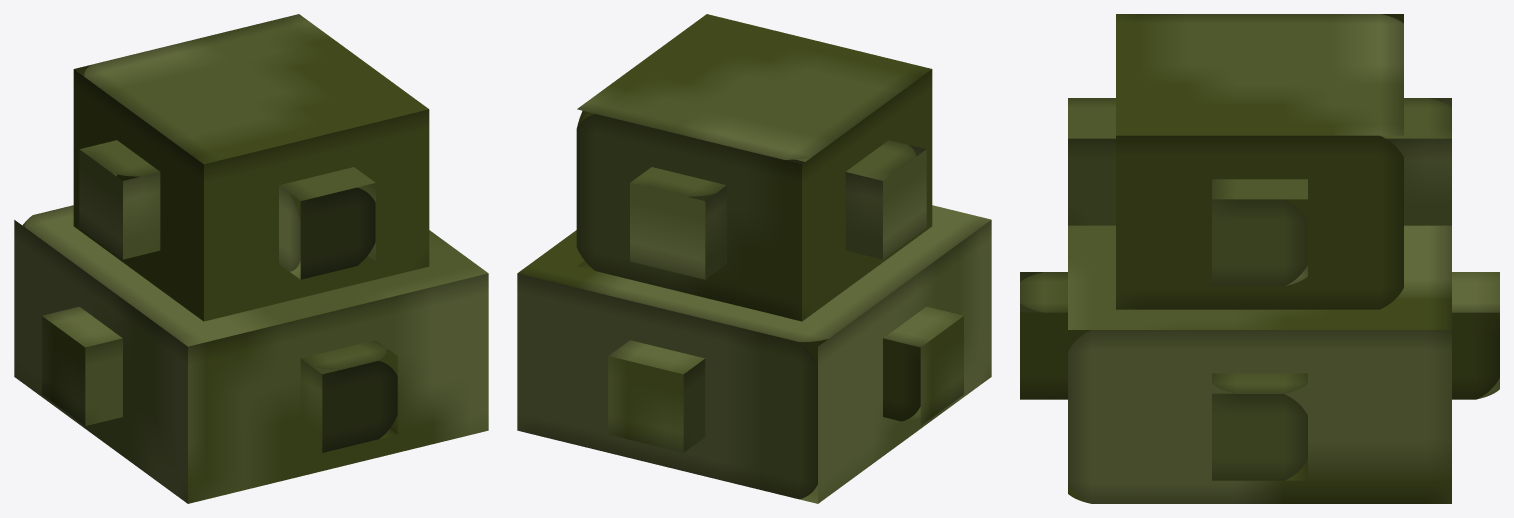
The model's file is missile_head_shrapnel.obj.
The picture shows the model from 3 angles, left to right: view 1: azimuth 30°, elevation 25°; view 2: azimuth 150°, elevation 25°; view 3: azimuth 270°, elevation 25°; orthographic projection. The views are drawn at different scales.
Visible parts, largest first — view 1: group_27, group_28, Component_18, Component_19; view 2: group_27, group_28, Component_18, Component_19; view 3: group_28, group_27, Component_19, Component_18.
Part boxes in pixels (x1,y1,x2,y2): group_27: (14,205,488,503); group_28: (73,14,429,321); Component_18: (42,306,397,452); Component_19: (79,140,375,279); group_27: (517,205,991,503); group_28: (576,14,932,321); Component_18: (608,306,963,452); Component_19: (630,140,926,279); group_28: (1116,14,1403,309); group_27: (1068,225,1451,503); Component_19: (1068,98,1451,286); Component_18: (1020,272,1499,480).
Size of the model in its own units: 62.99 by 50.39 by 62.99.
